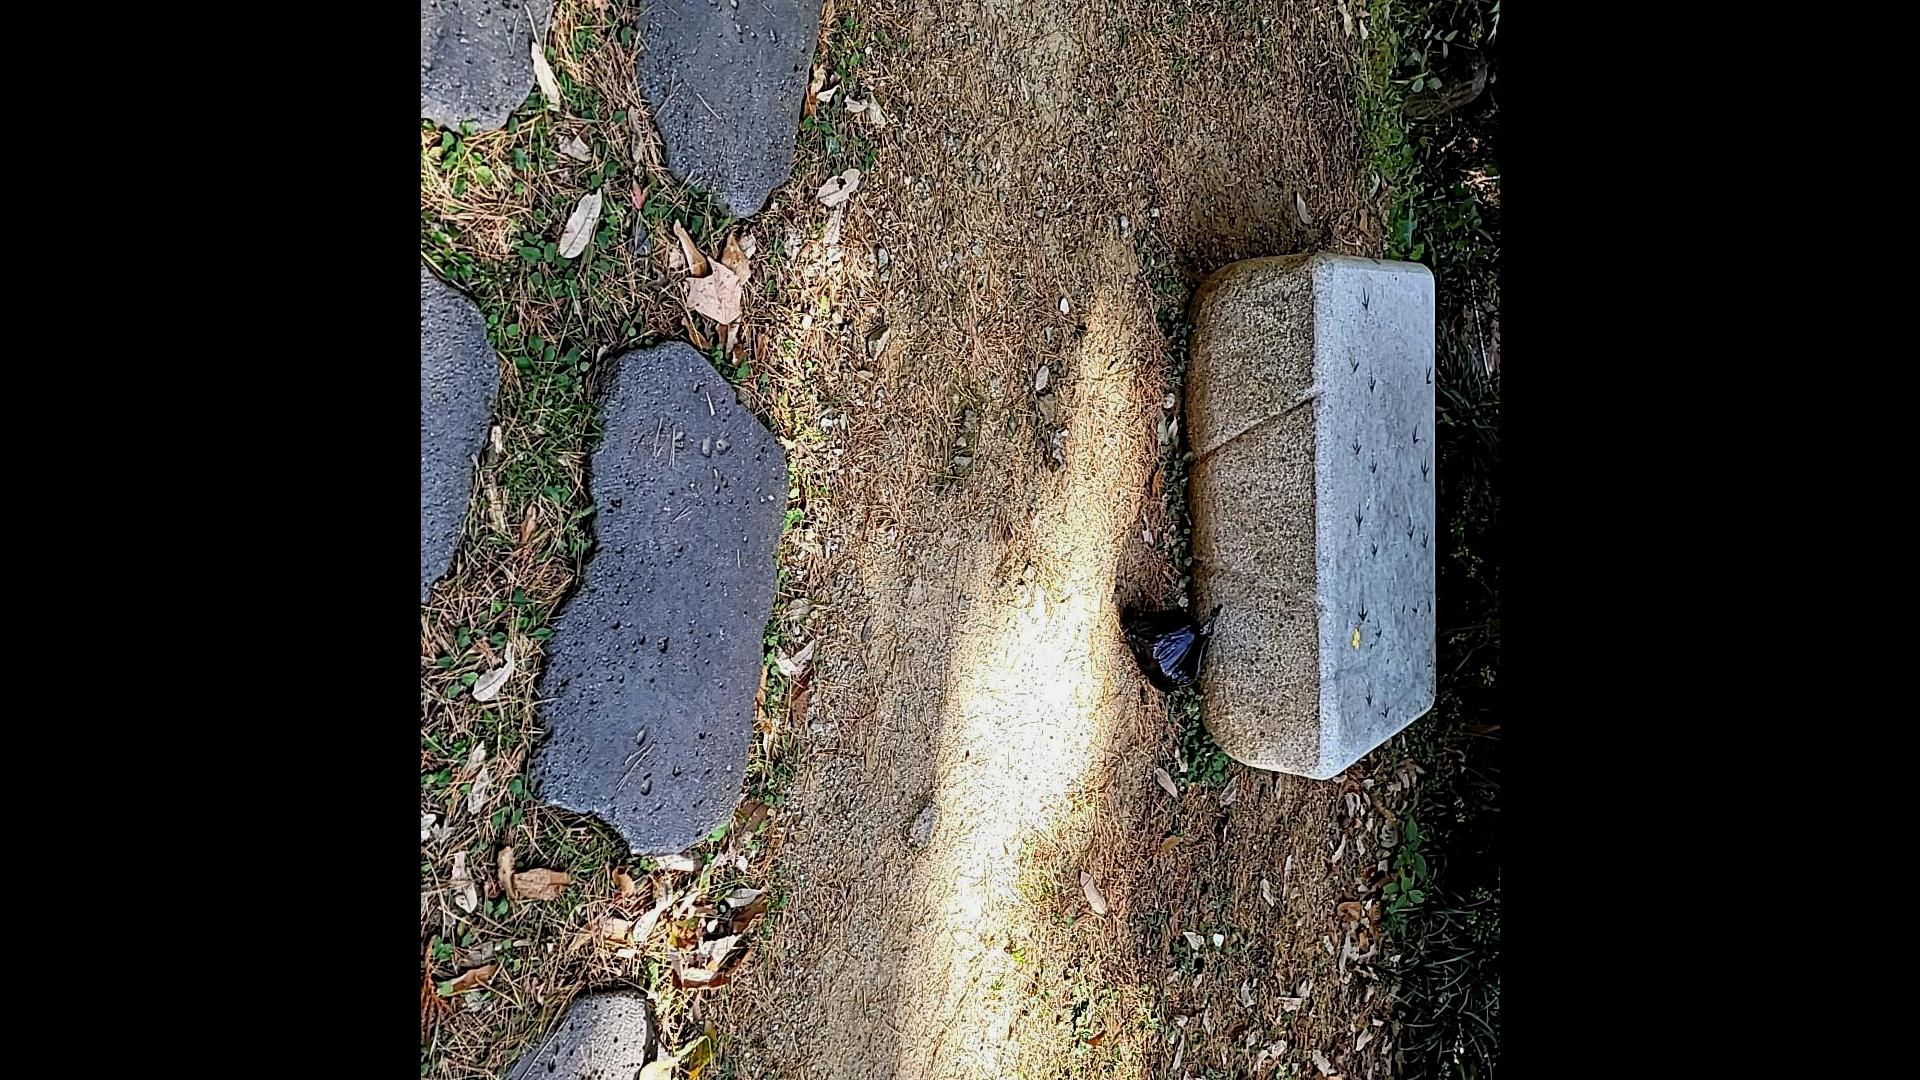black_bag: (1116, 593, 1232, 705)
